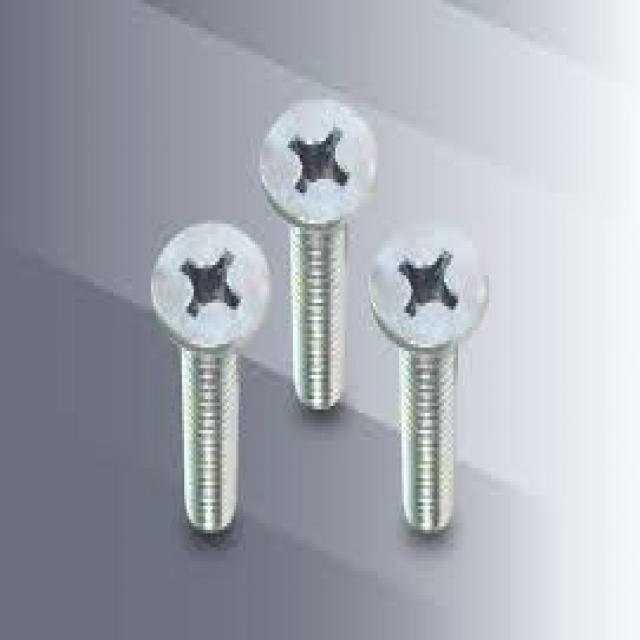Dry Waste: (95, 60, 623, 558)
